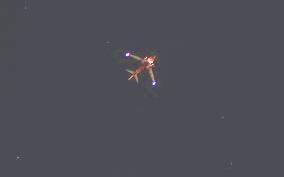Plane: (114, 37, 171, 88)
